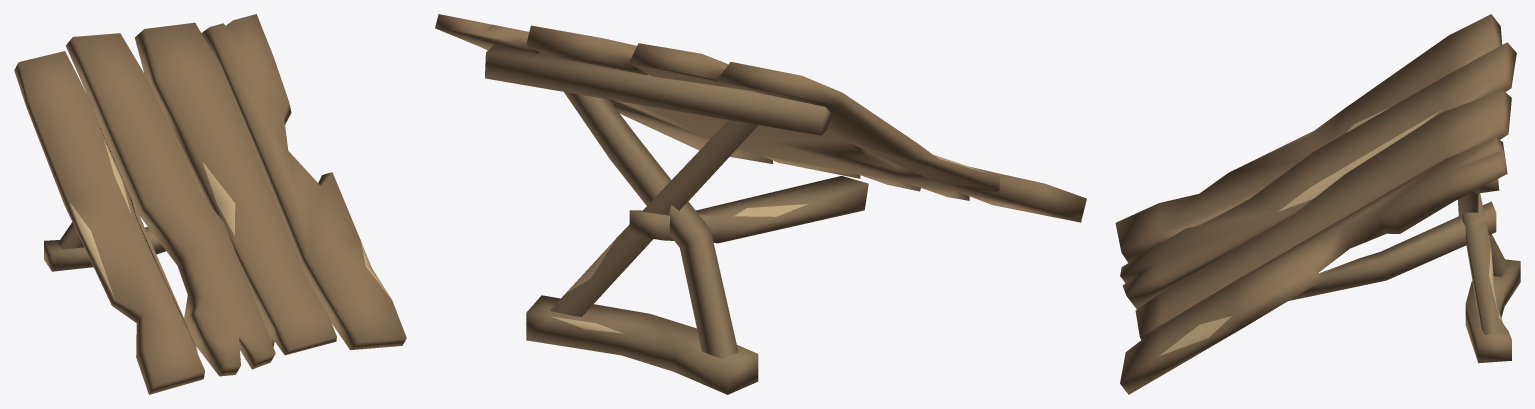
File: rpgpp_av_table_03b.gltf
The picture shows the model from 3 angles, left to right: view 1: azimuth 30°, elevation 25°; view 2: azimuth 150°, elevation 25°; view 3: azimuth 270°, elevation 25°; orthographic projection. The views are drawn at different scales.
Visible parts, largest first — view 1: rpgpp_av_table_03b; view 2: rpgpp_av_table_03b; view 3: rpgpp_av_table_03b.
Part boxes in pixels (x1,y1,x2,y2): rpgpp_av_table_03b: (14, 14, 406, 394); rpgpp_av_table_03b: (435, 14, 1086, 394); rpgpp_av_table_03b: (1115, 14, 1520, 394).
Size of the model in its own units: 0.0117 by 0.00937 by 0.0132.
Materials: 1 (1 with a texture image).
